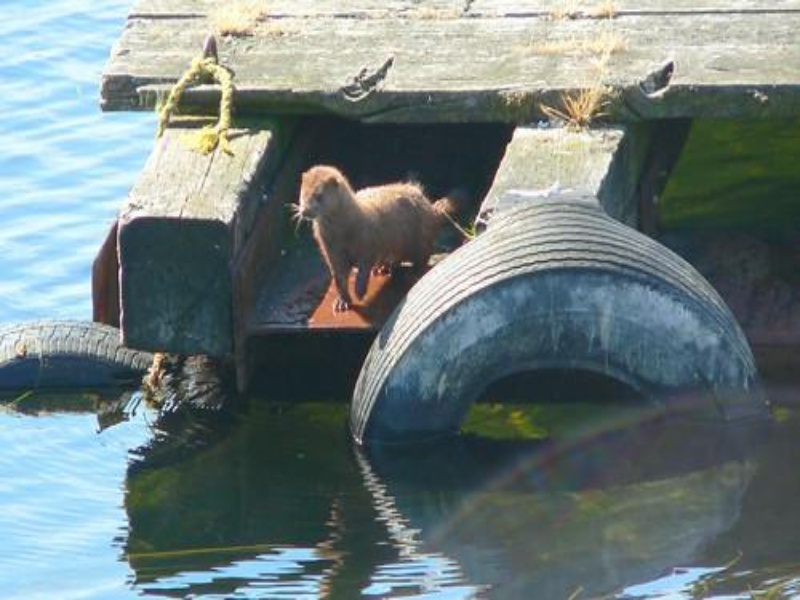minkish: (295, 160, 468, 309)
